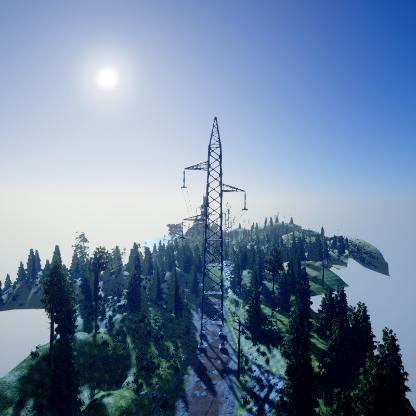tower: (178, 117, 250, 353)
